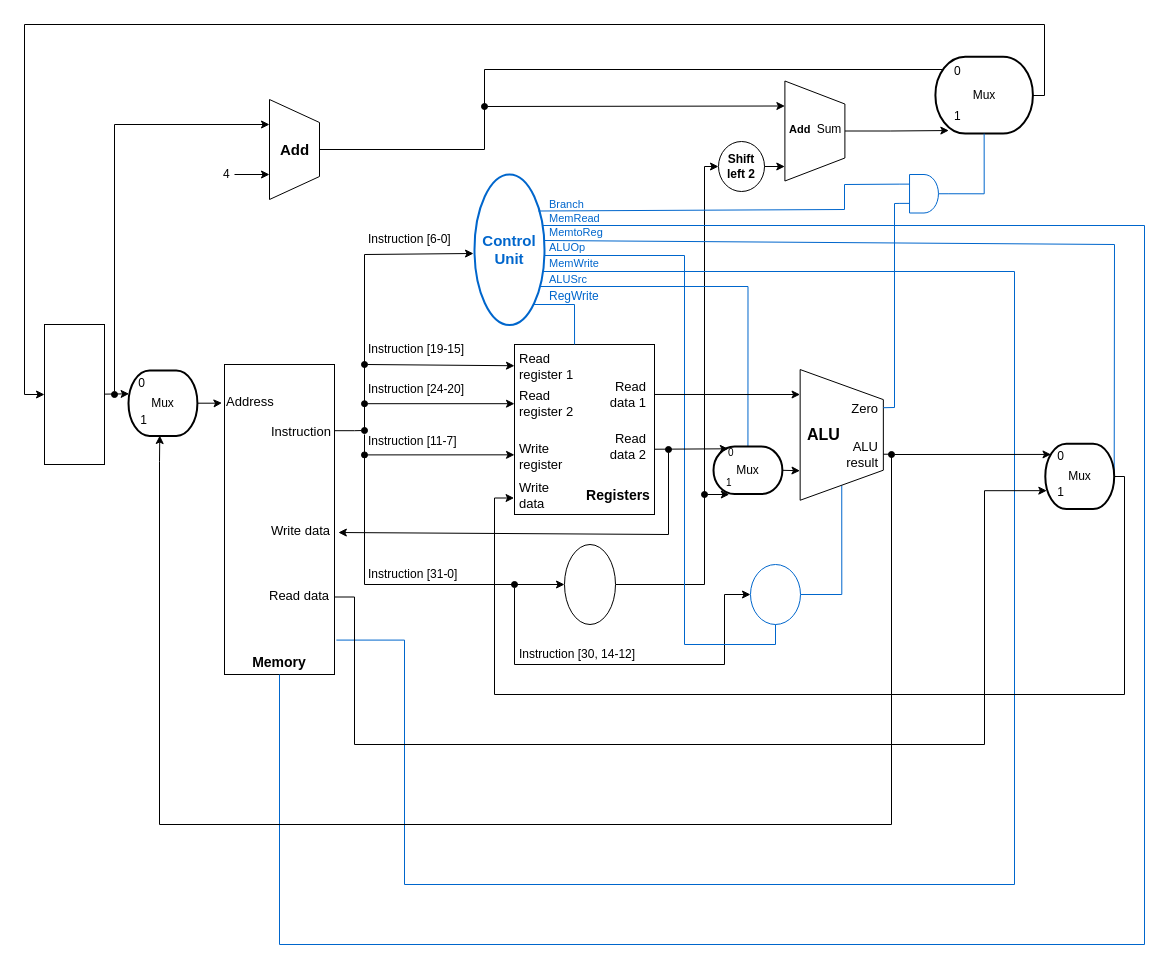
Some shapes in this 1163 by 963 pixel diagram are drawn without their labels. Each missing label, with the centre of its shape:
ALU control: (775,594)
AND: (923,193)
Imm Gen: (590,584)
PC: (74,394)
